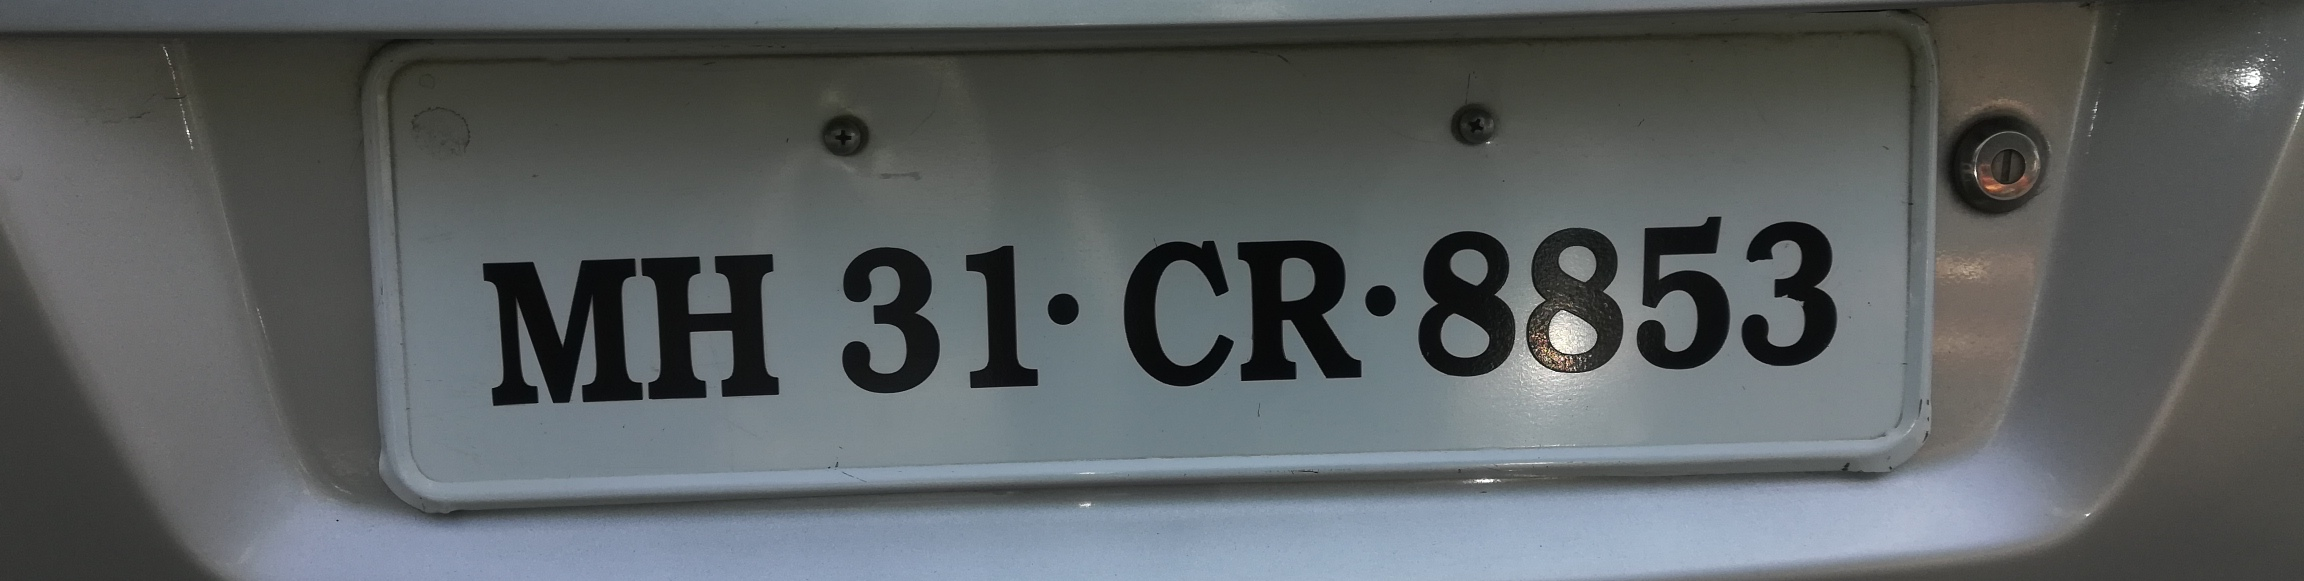numberplate: (352, 1, 1939, 525)
